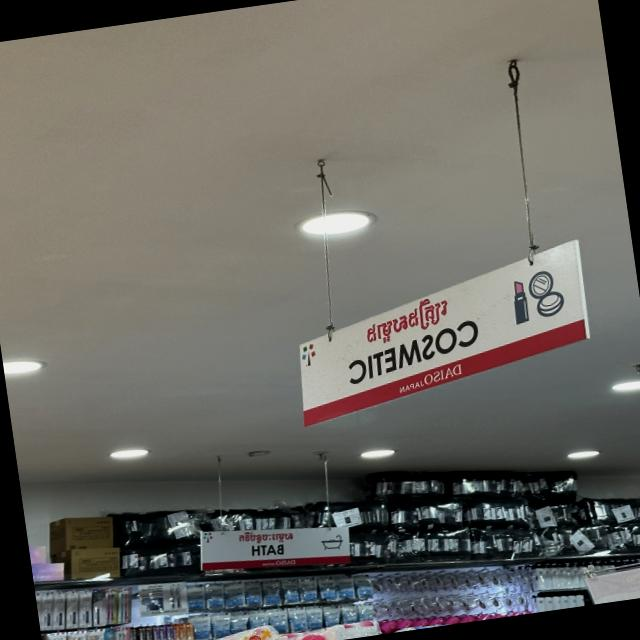Yolov11kh: (362, 287, 463, 351)
